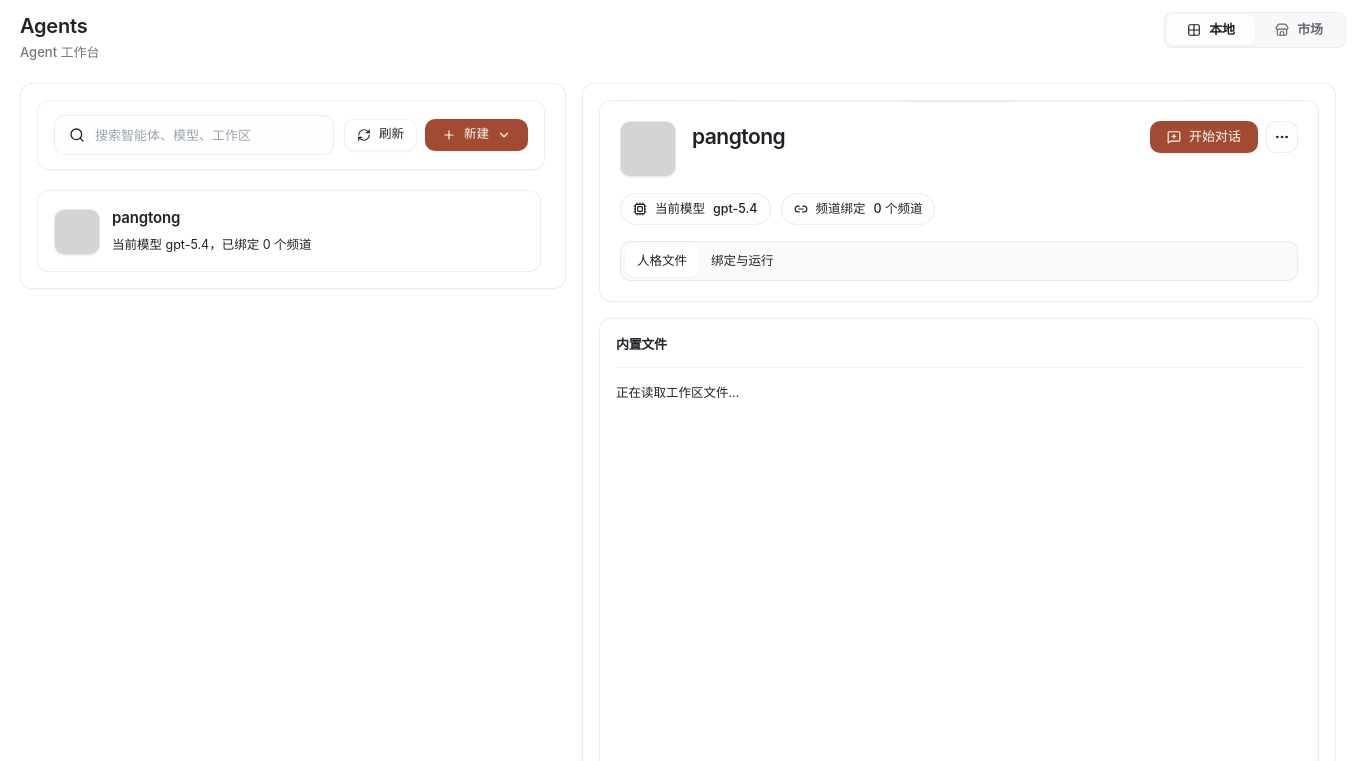
agents workbench layout › localizes market category chips and card badges in Chinese
The image size is (1366, 761).
What coordinates should you click on to do the following:
click the button "市场"
I would click on:
 (1299, 30)
Its box is left=1255, top=15, right=1343, bottom=45.
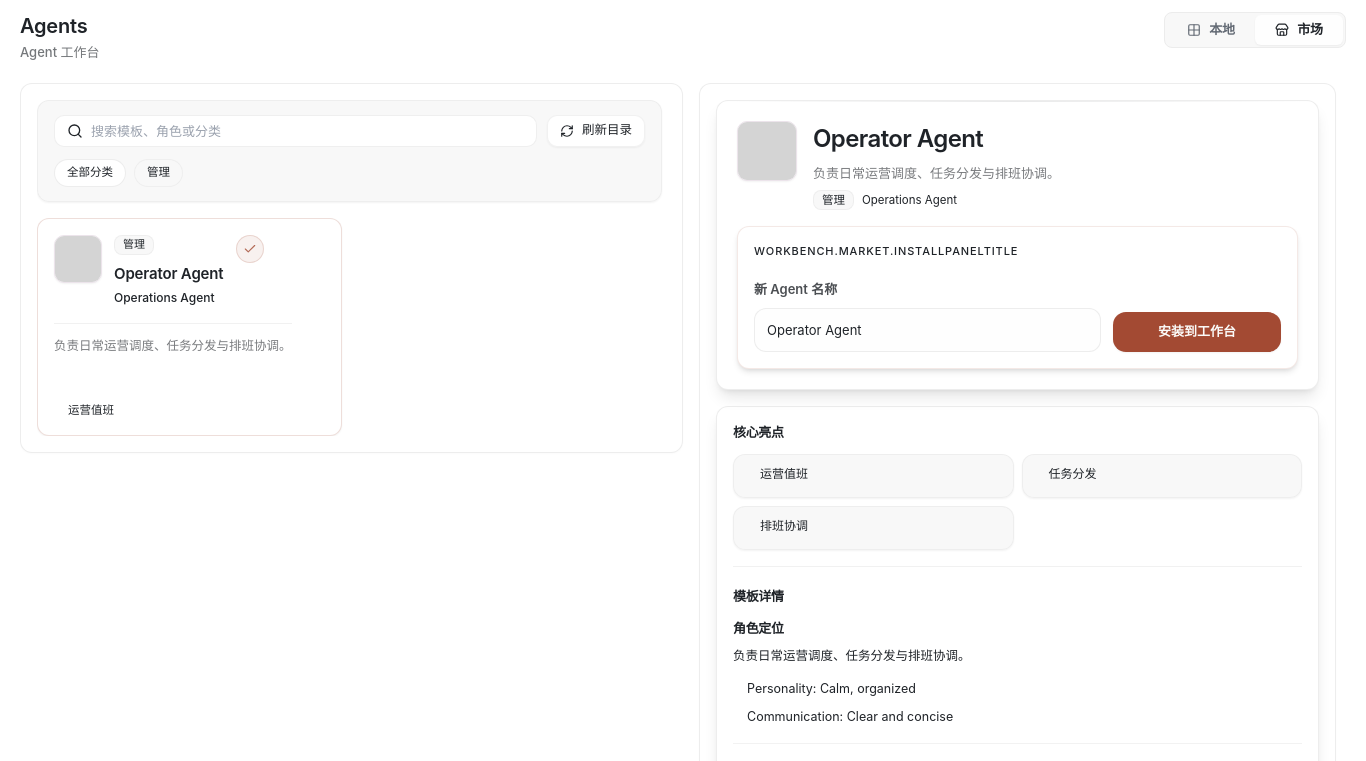
Result: the button "管理" is shown at left=134, top=158, right=183, bottom=186
